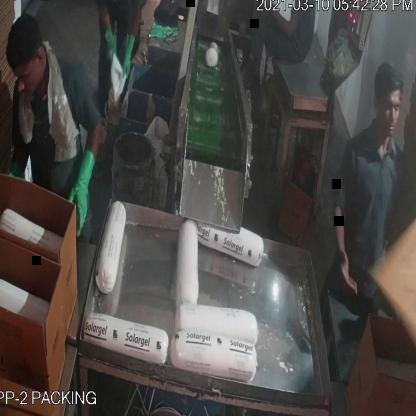glove: (66, 110, 98, 258)
no_glove: (325, 185, 369, 319), (270, 3, 306, 45)
